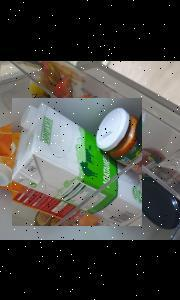Leche: (13, 97, 142, 225)
